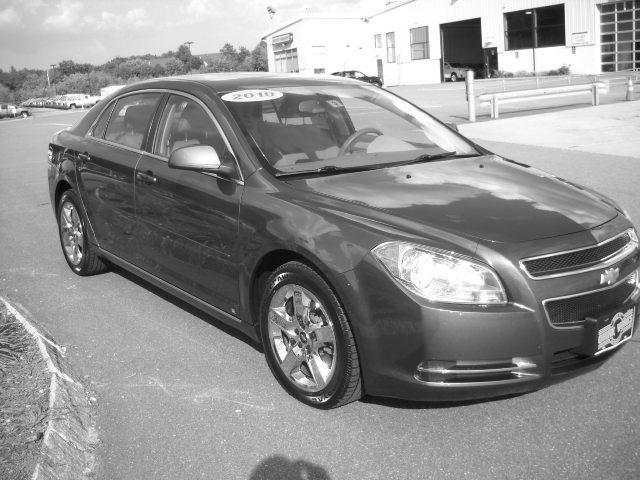car: (47, 73, 638, 408)
